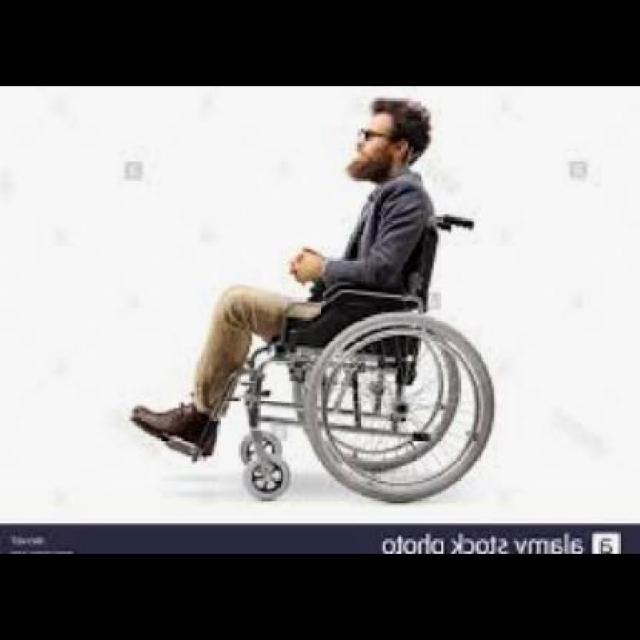wheelchairs: (169, 215, 498, 503)
